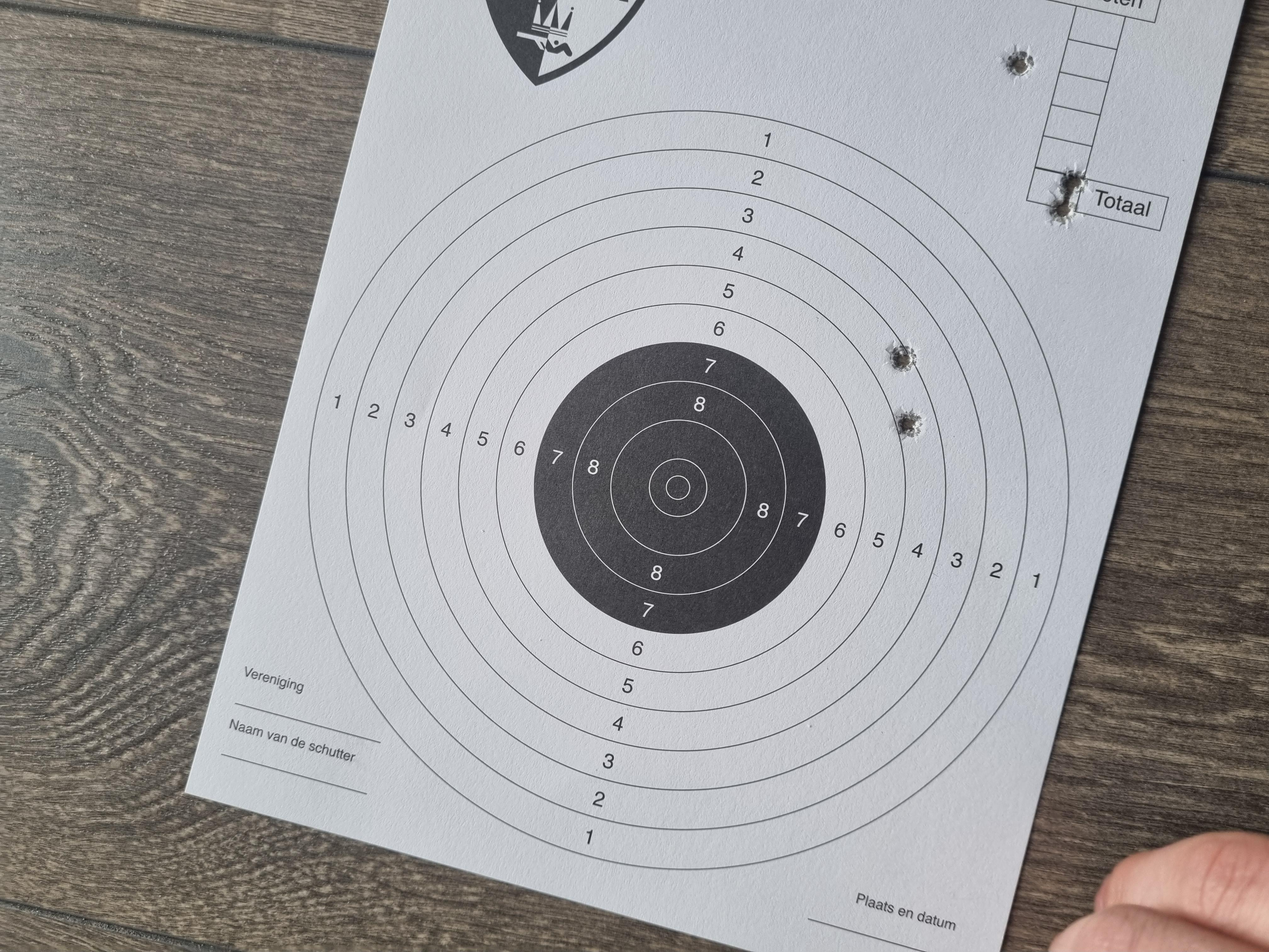hole: (1157, 752, 1210, 777), (964, 784, 1009, 807), (1006, 793, 1051, 816), (773, 665, 816, 688), (681, 672, 725, 693)
